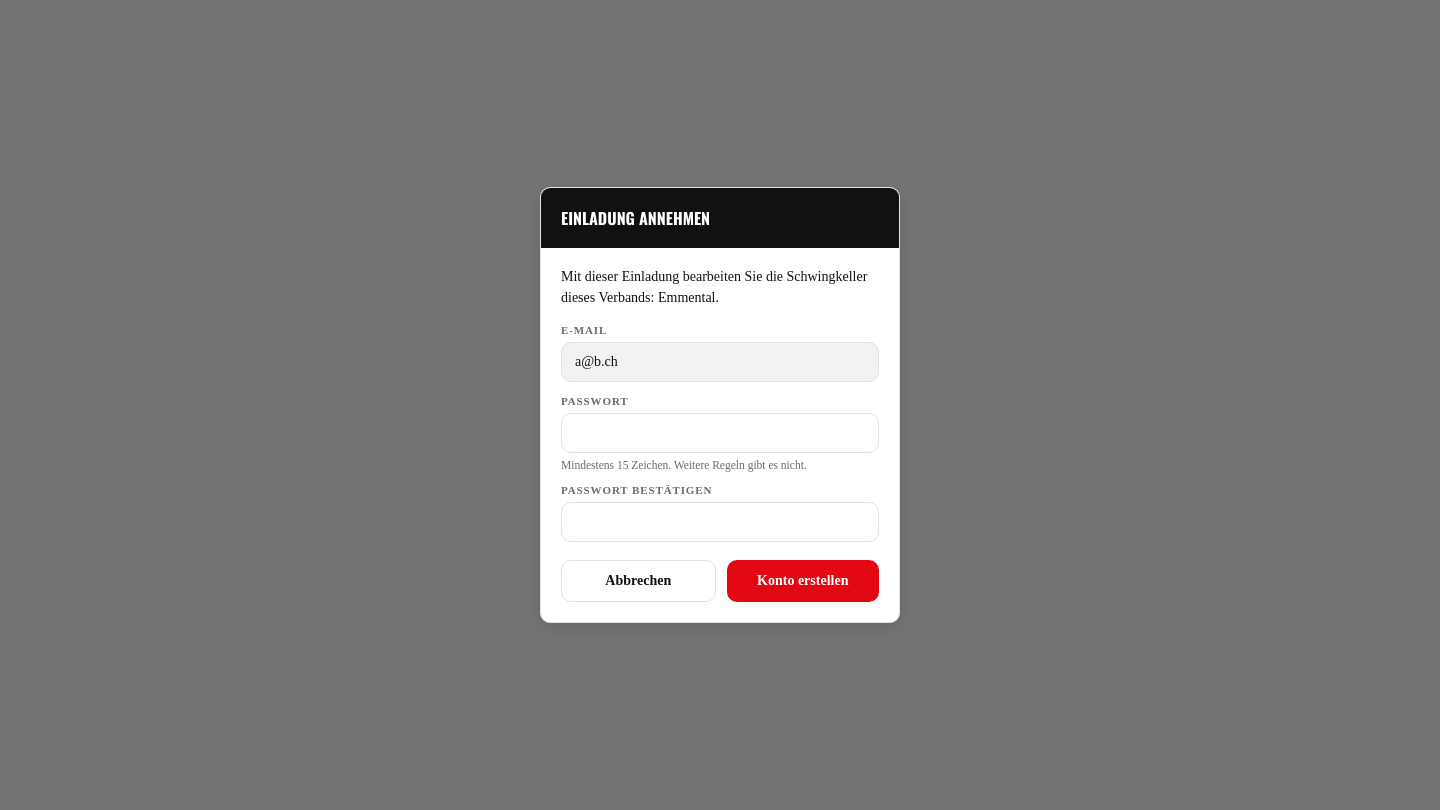
it: InviteDialog › shows the message for a invitation failure and keeps the form
Type "a-long-enough-pw" into the password field labelled "Passwort" at (720, 433), box [561,413,879,453]
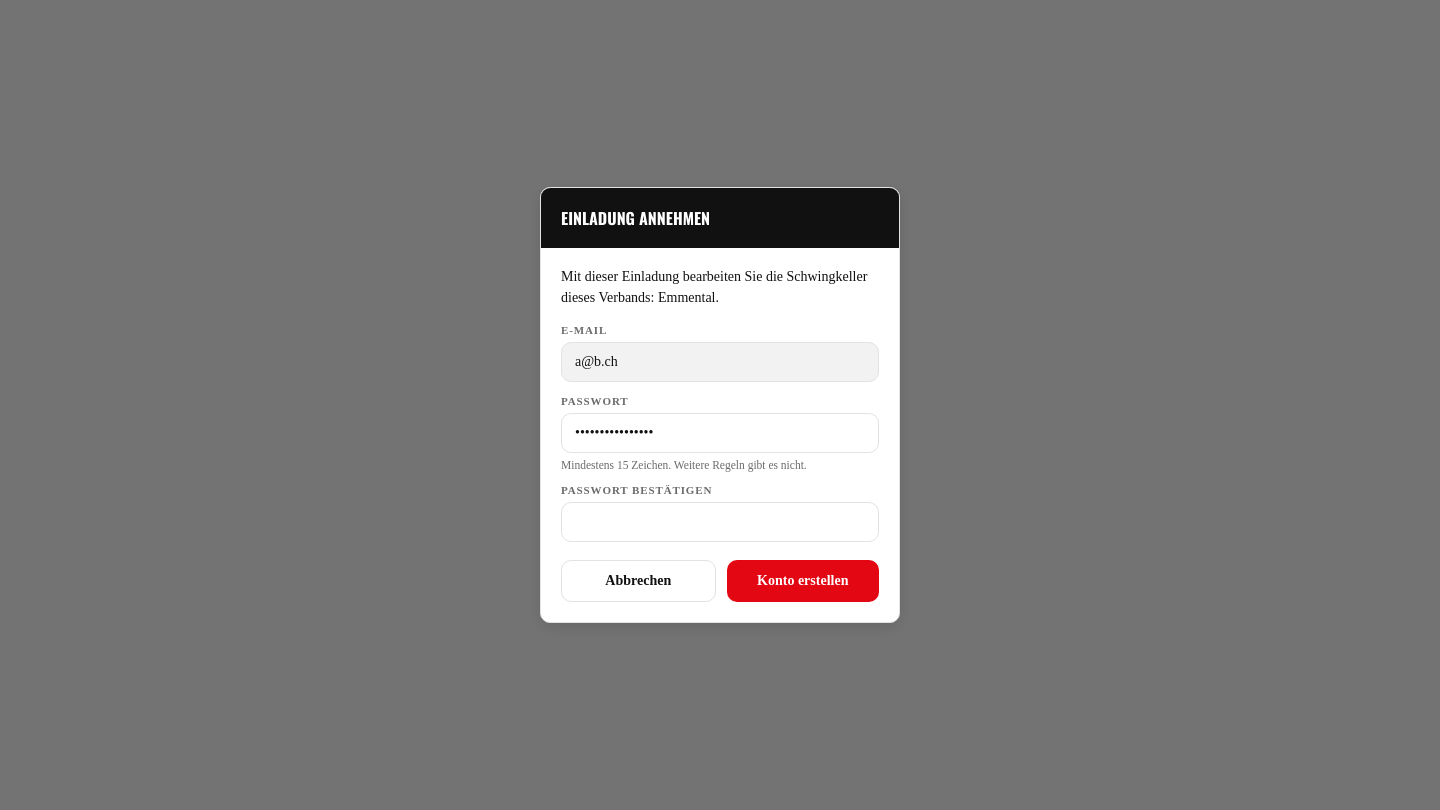
Type "a-long-enough-pw" into the password field labelled "Passwort bestätigen" at (720, 522), box [561,502,879,542]
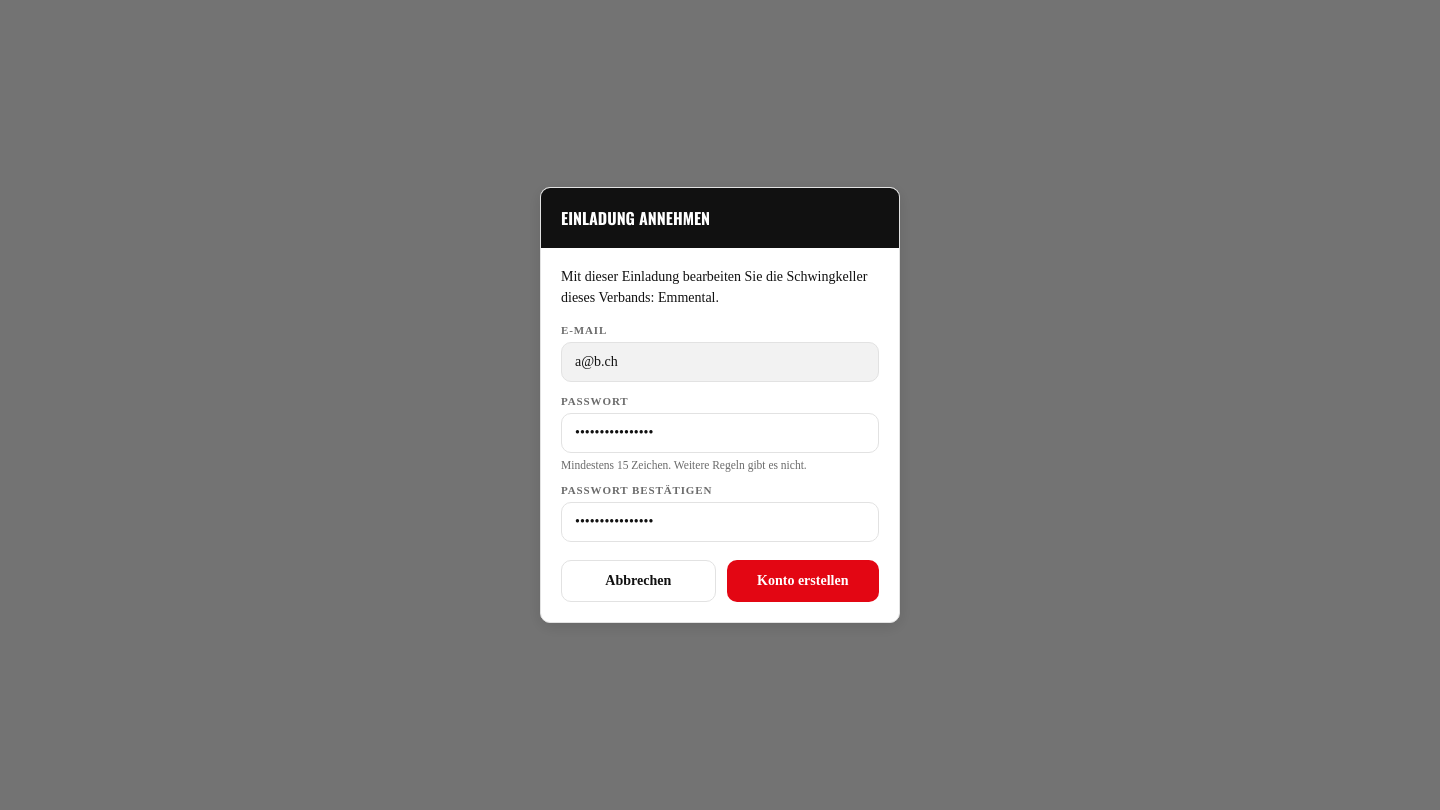
Click the button "Konto erstellen" at (803, 581), box [726,560,879,602]
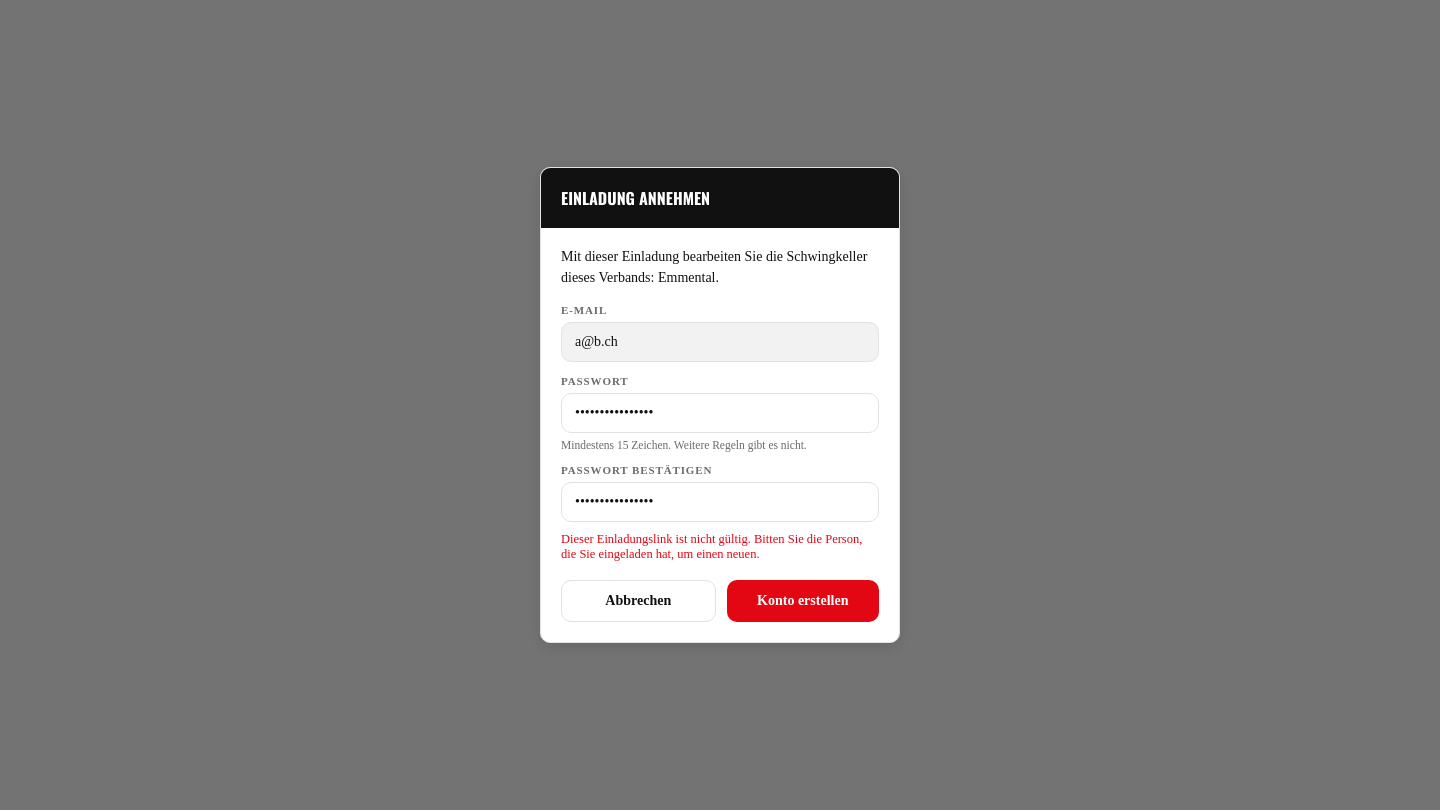
Expected: the button "Konto erstellen" is enabled, [726,580,879,622]
Expected: the message shows "Dieser Einladungslink ist nicht gültig. Bitten Sie die Person, die Sie eingeladen hat, um einen neuen.", [561,532,862,561]
